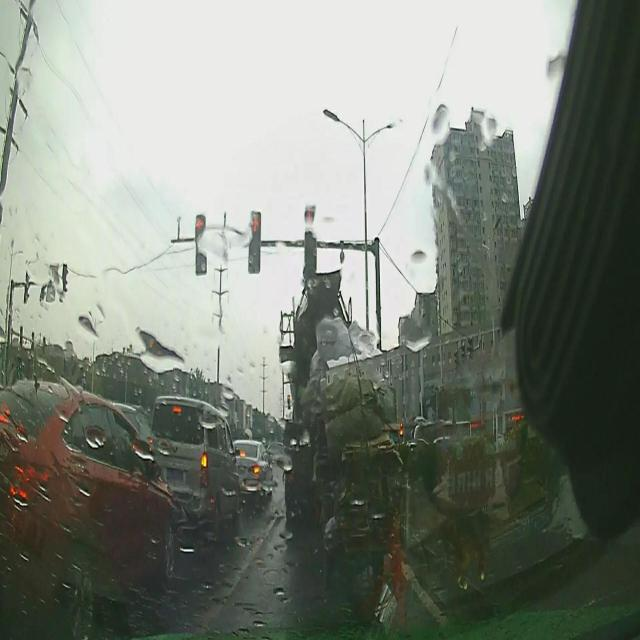car: (0, 381, 175, 632), (147, 397, 238, 521), (229, 438, 275, 500)
